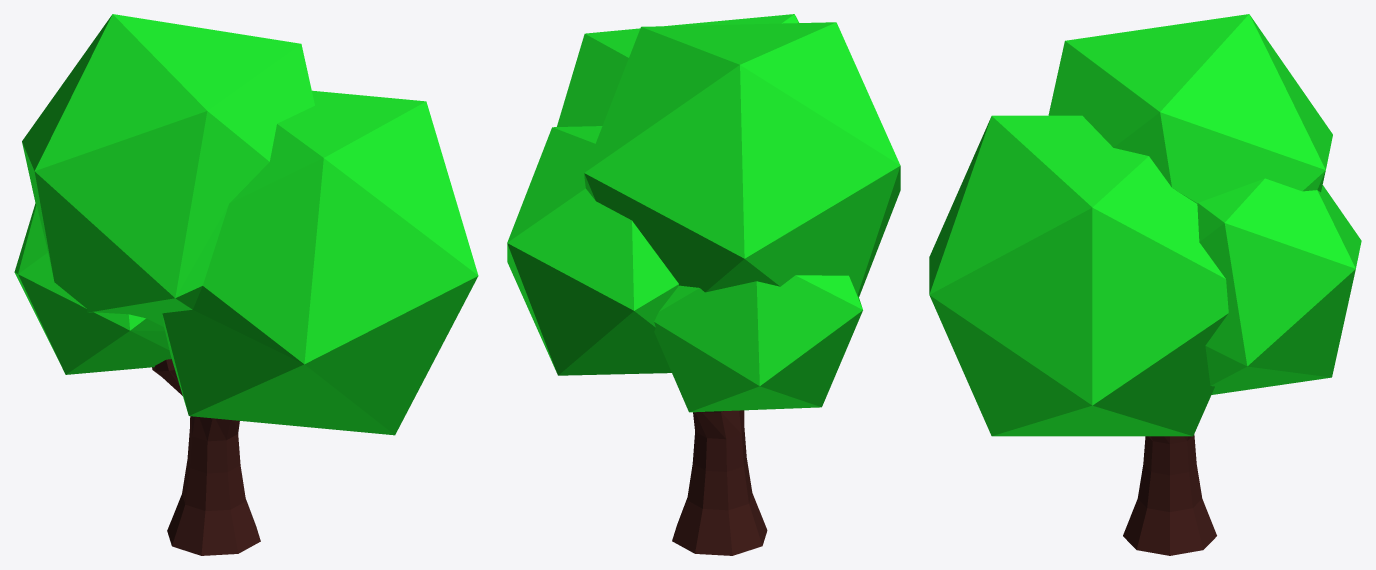
File: Tree3.FBX
3 renders of one model, left to right at view 1: azimuth 30°, elevation 25°; view 2: azimuth 150°, elevation 25°; view 3: azimuth 270°, elevation 25°, orthographic. The views are drawn at different scales.
Parts seen in each view (by area): view 1: Tree; view 2: Tree; view 3: Tree.
Part boxes in pixels (x1,y1,x2,y2): Tree: (14,14,478,555); Tree: (507,14,900,555); Tree: (929,14,1361,555).
Bounding box in the file's own units: 988 × 1212 × 963.
